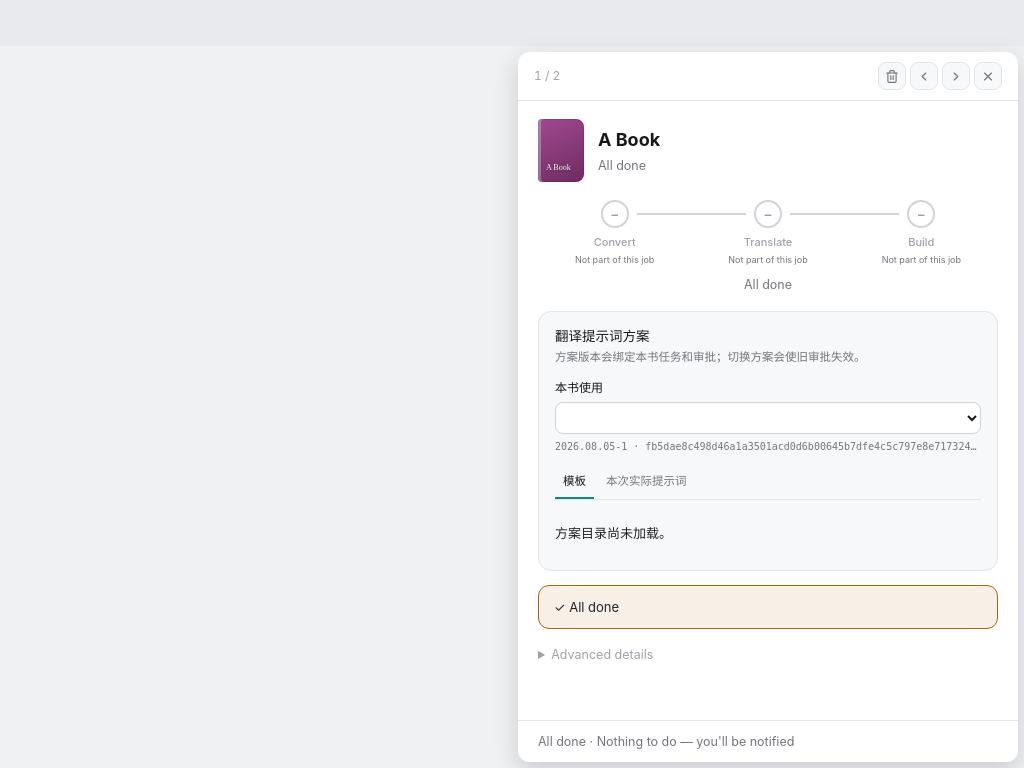
Scenario: BookDrawer gate card › drops a pending delete confirmation when the drawer moves to another book
What coordinates should you click on to do the following:
click the button named "Remove from shelf"
I would click on:
 (892, 76)
Its box is 878,62 -> 906,90.
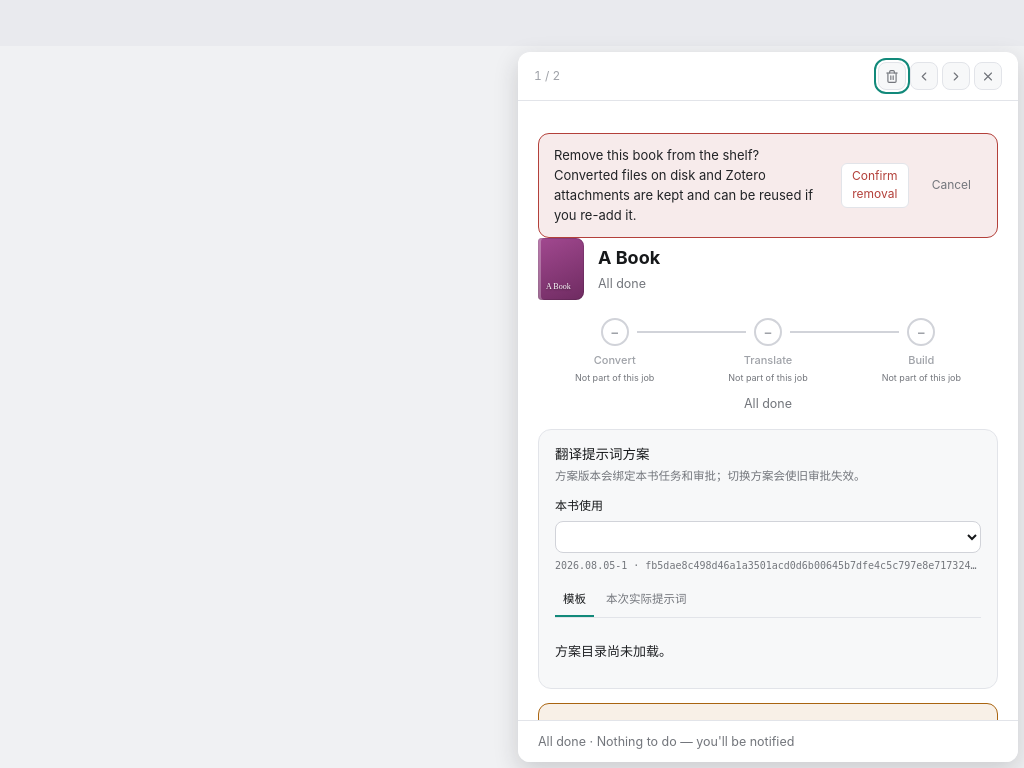
Now the text "Remove this book from the shelf? Converted files on disk and Zotero attachments are kept and can be reused if you re-add" is shown, box 554,147 -> 813,223
